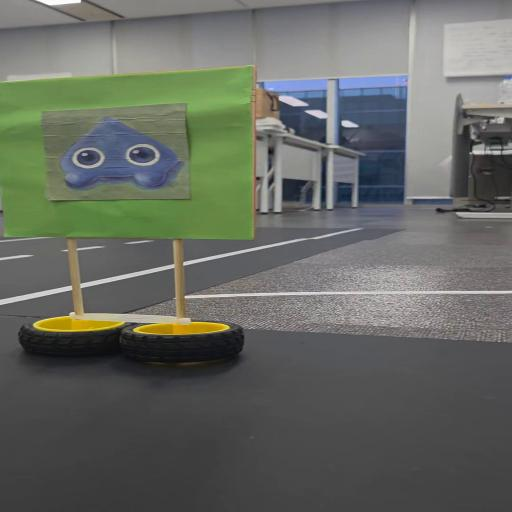Sign_B: (0, 75, 265, 370)
